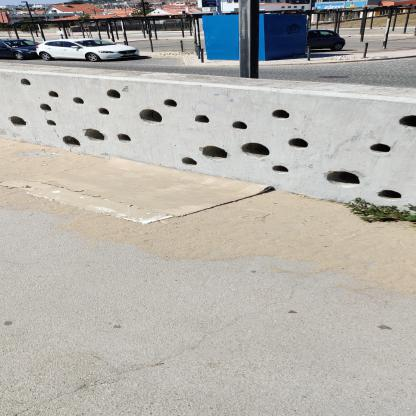karton: (2, 157, 274, 226)
